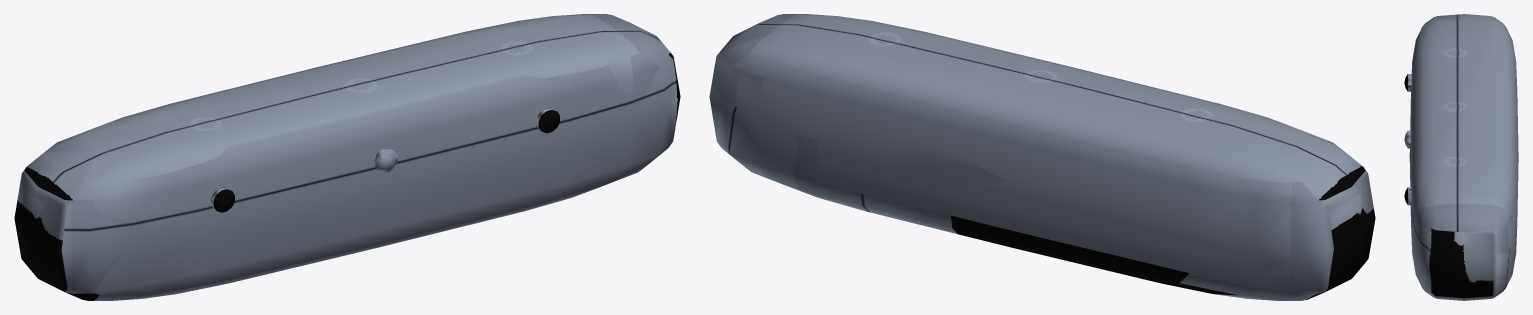
Rendered from Remache_BotaIzq_Acero.fbx.
The picture shows the model from 3 angles, left to right: view 1: azimuth 30°, elevation 25°; view 2: azimuth 150°, elevation 25°; view 3: azimuth 270°, elevation 25°; orthographic projection. The views are drawn at different scales.
Visible parts, largest first — view 1: Remache_BotaIzq_Acero; view 2: Remache_BotaIzq_Acero; view 3: Remache_BotaIzq_Acero.
Part boxes in pixels (box(x1,y1,x2,y2)): Remache_BotaIzq_Acero: box(14, 14, 680, 300); Remache_BotaIzq_Acero: box(709, 14, 1375, 300); Remache_BotaIzq_Acero: box(1404, 14, 1518, 300).
Size of the model in its own units: 1.9 by 0.4286 by 0.4121.
